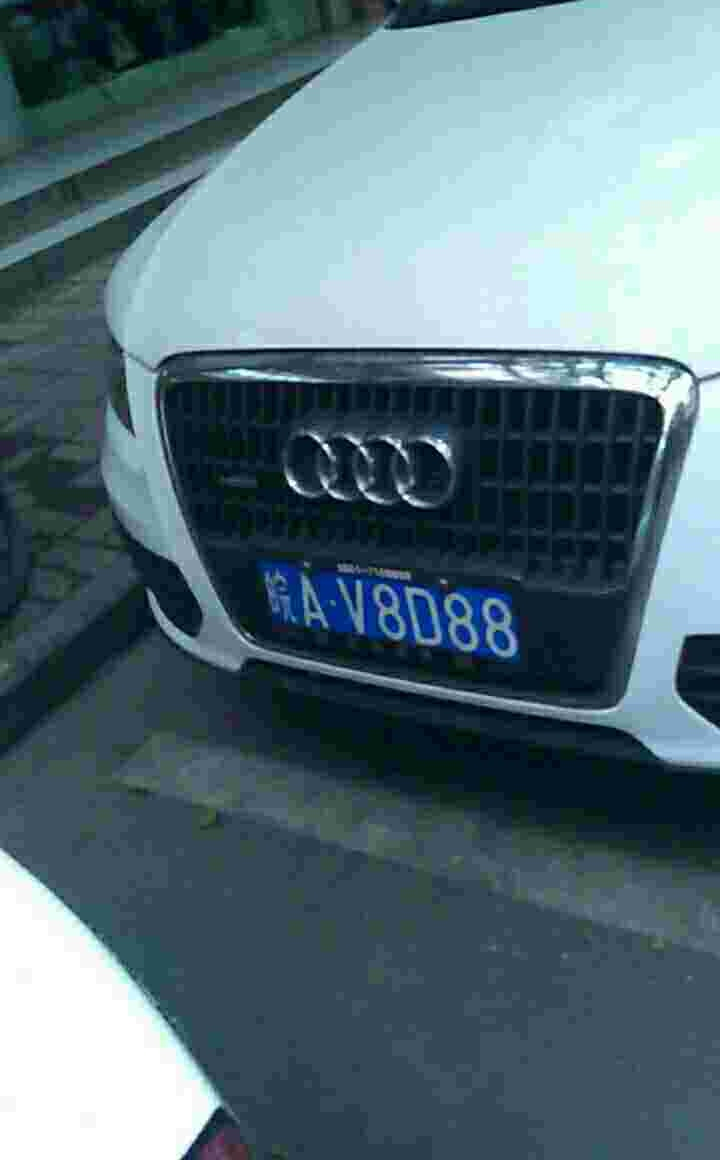car: (254, 559, 527, 662)
